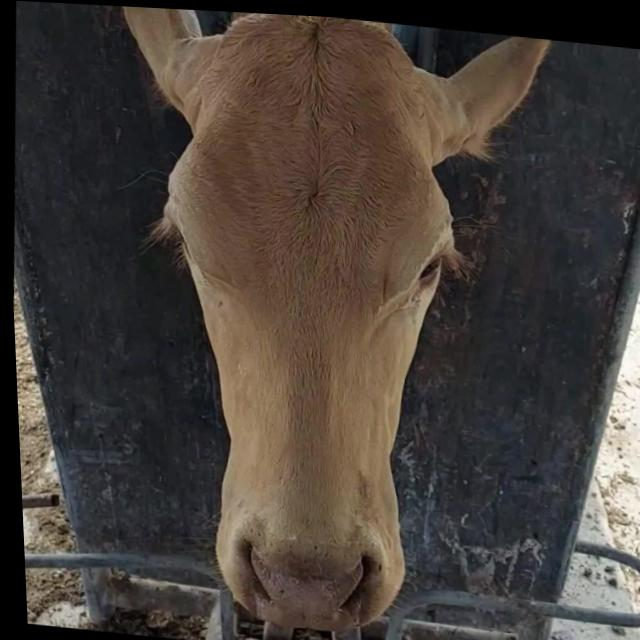cowFace: (138, 6, 476, 634)
